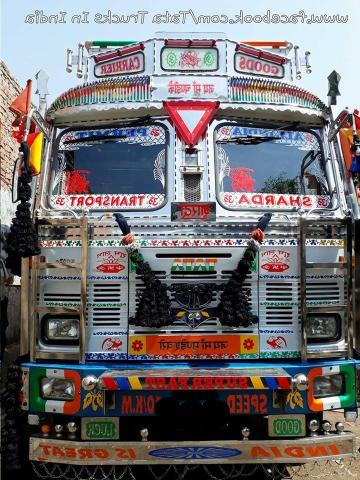truck: (22, 29, 360, 468)
